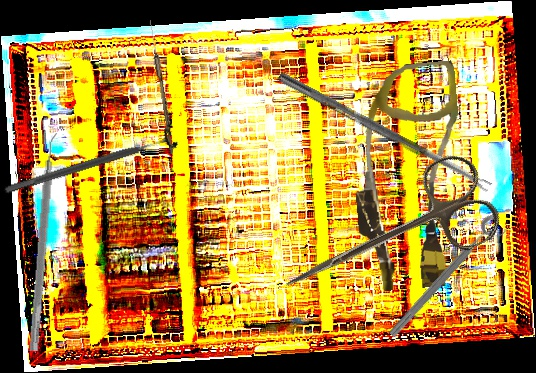Cannula: (344, 60, 474, 293)
Fixation Ring: (384, 212, 511, 347), (0, 121, 180, 204)
Iris Scissors: (266, 146, 508, 332)
Spatula Surgical: (28, 132, 65, 352)
Surgical Spoon: (276, 71, 492, 194), (146, 20, 177, 154)
